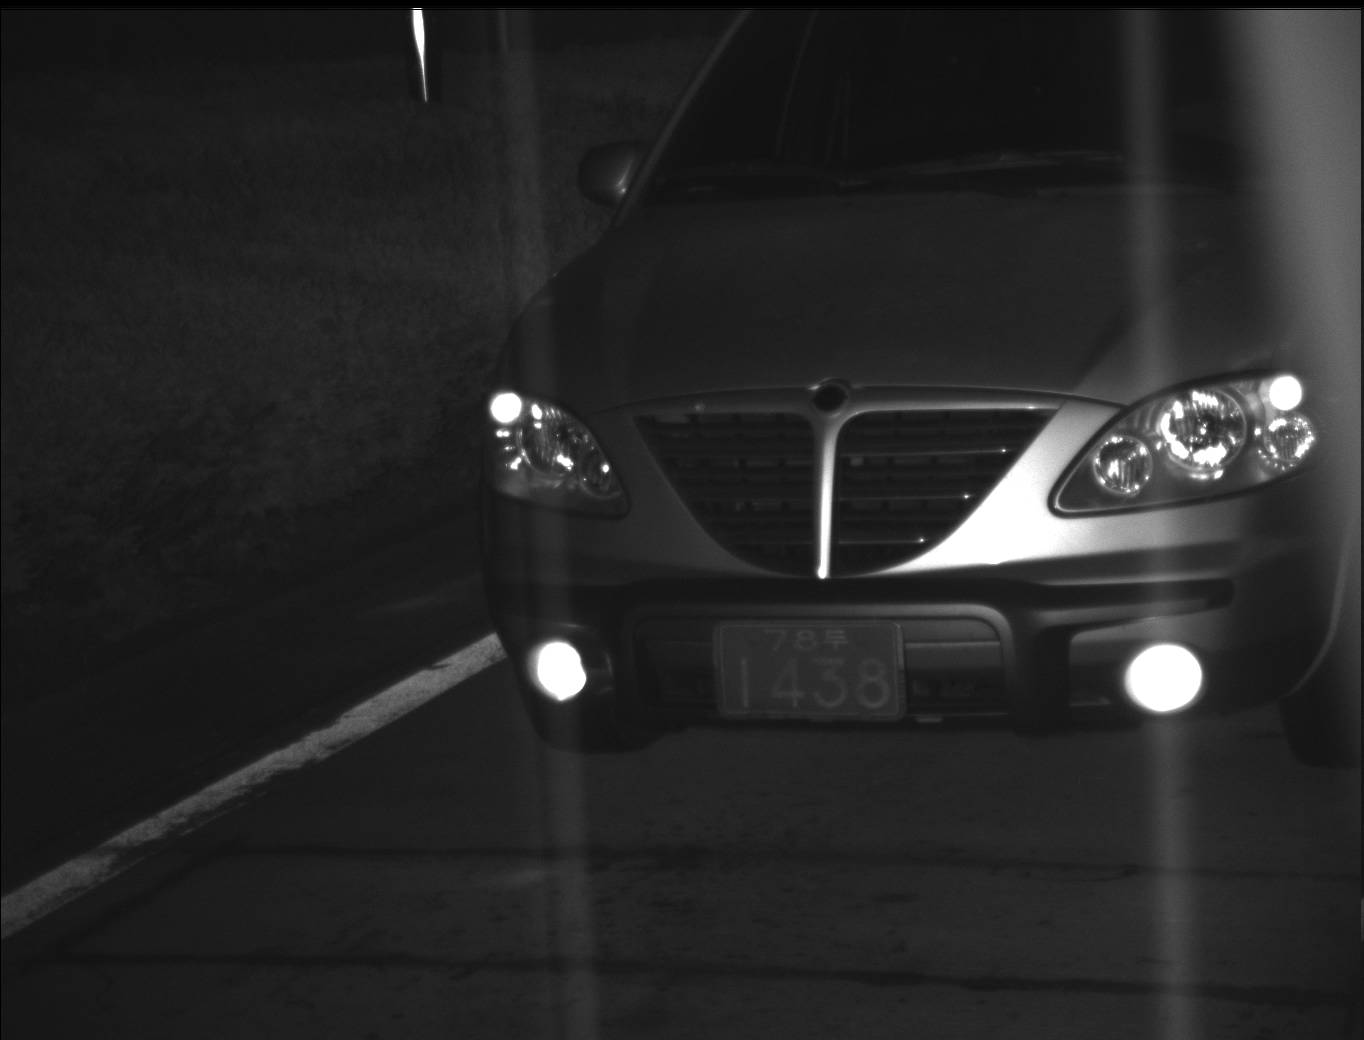car: (452, 1, 1364, 757)
plate: (705, 616, 909, 722)
